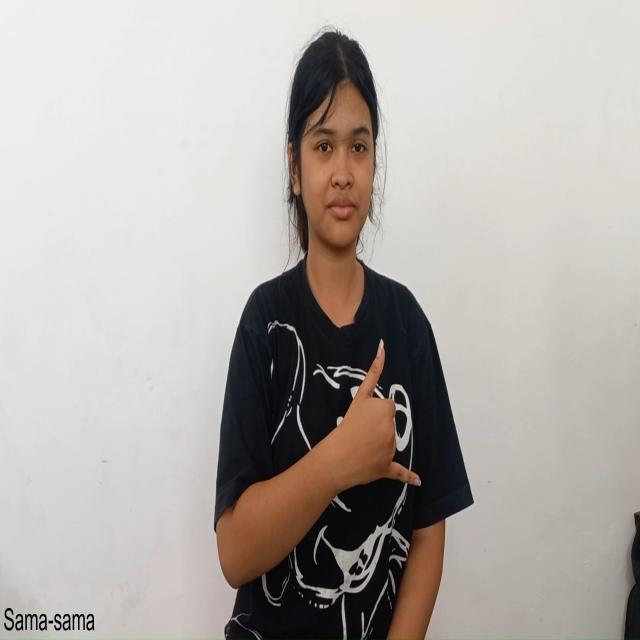Sama-sama -BISINDO-: (323, 330, 424, 523)
